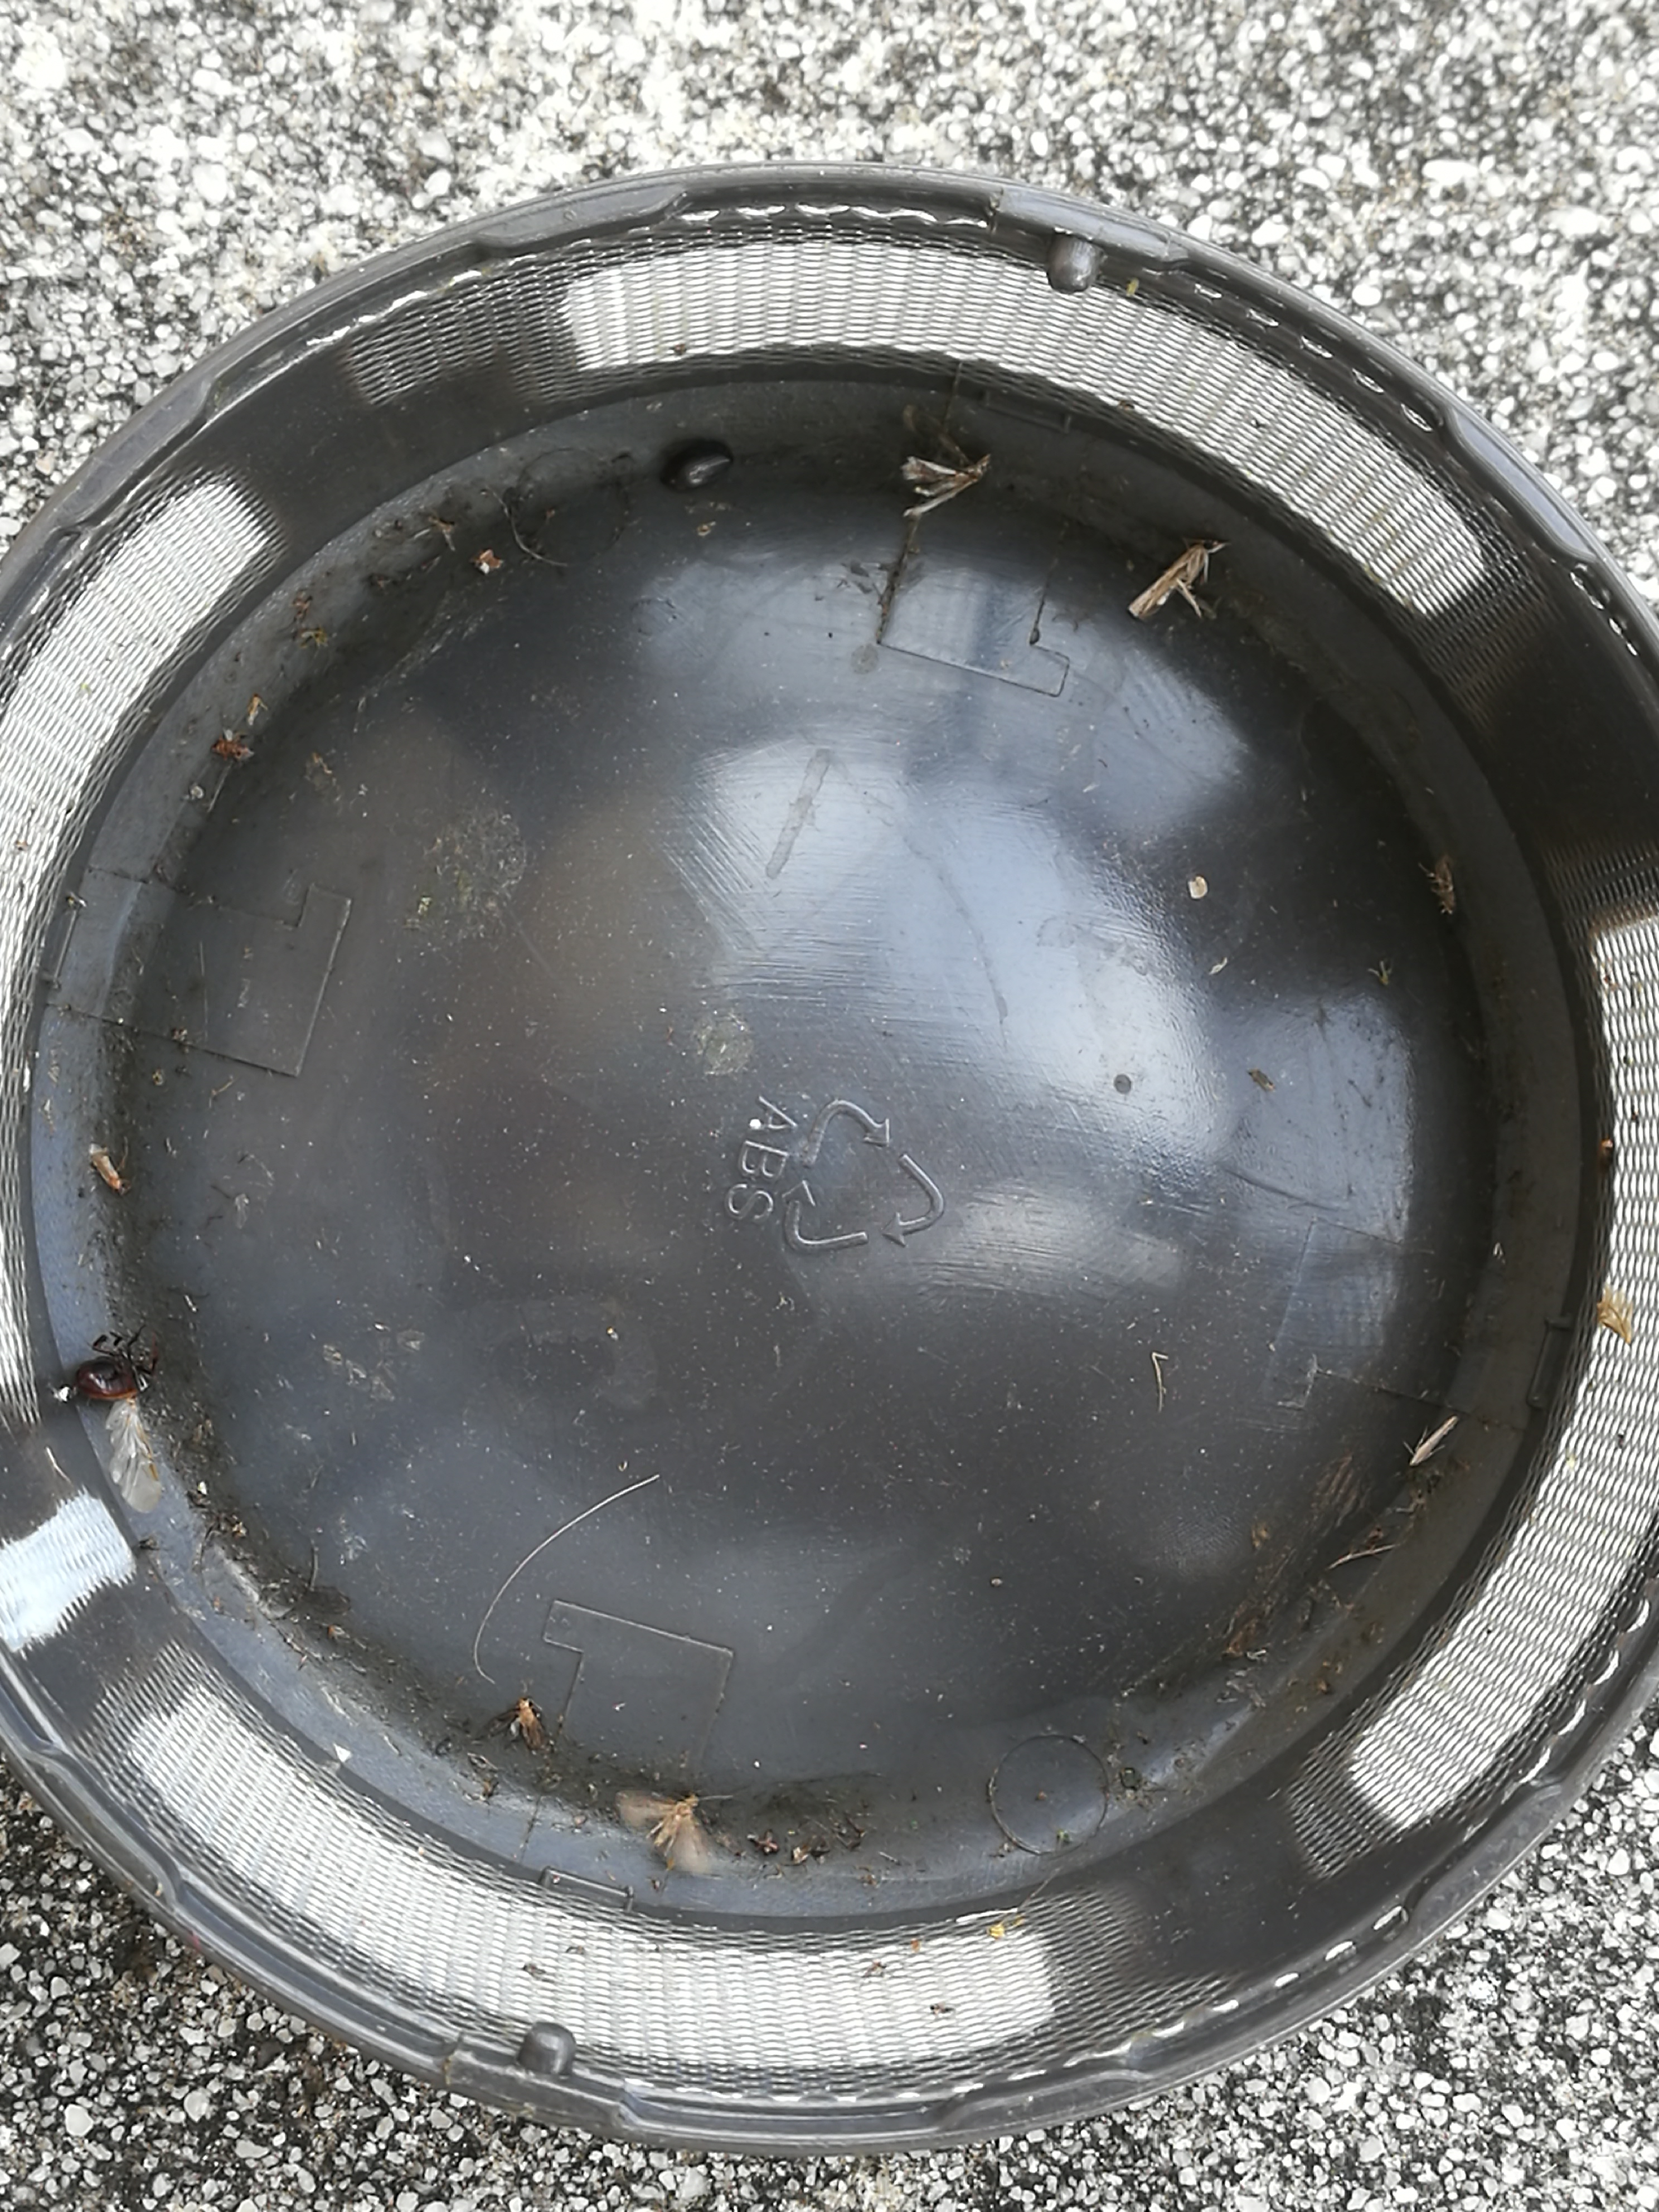beetle: (77, 1331, 157, 1400)
mosquito: (1126, 540, 1223, 622), (85, 1144, 122, 1190), (1434, 860, 1457, 916)
moth: (901, 406, 992, 521), (617, 1789, 709, 1879), (477, 1700, 549, 1752)
